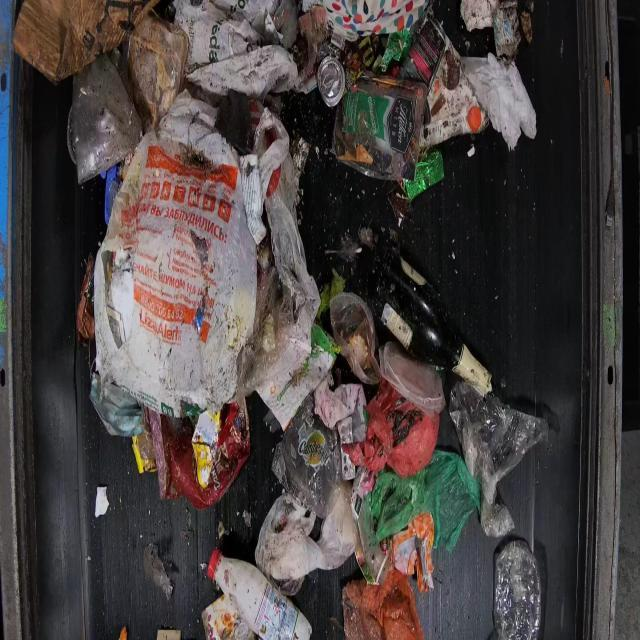cardboard: (7, 0, 607, 639)
